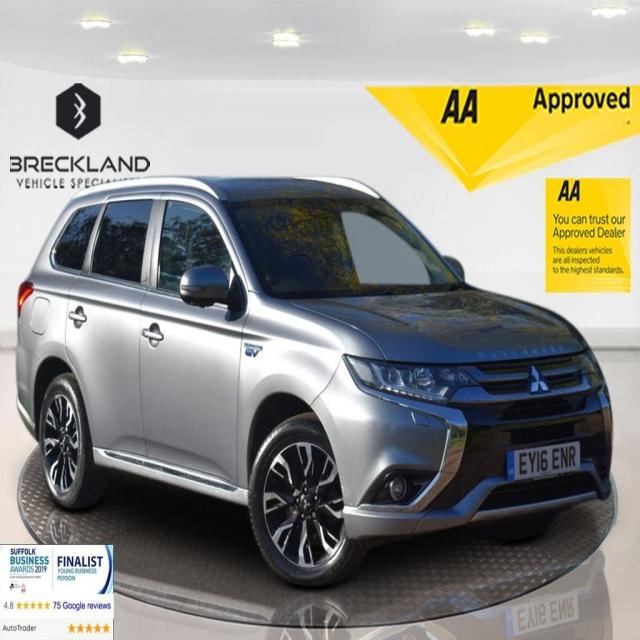light_vehicle: (14, 175, 613, 588)
